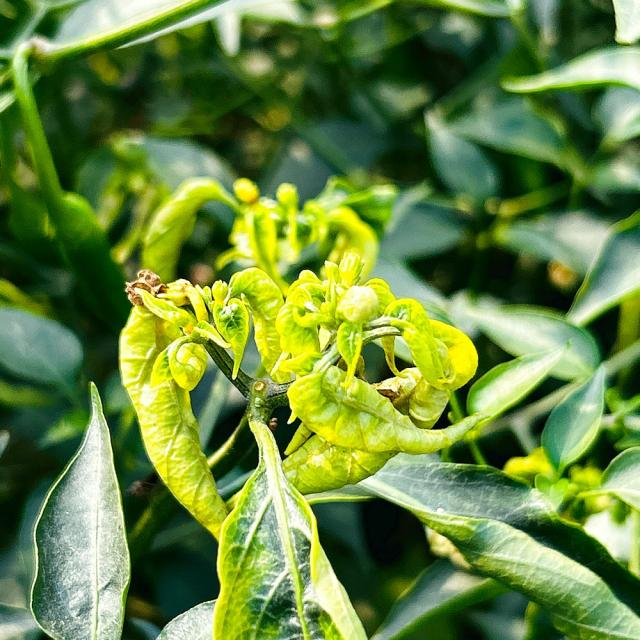Chilli_Leaf_Curl: (27, 172, 636, 638), (117, 248, 483, 539), (355, 450, 638, 638), (272, 251, 479, 454), (211, 398, 368, 638), (116, 271, 232, 540), (27, 380, 132, 639), (540, 362, 608, 476)
